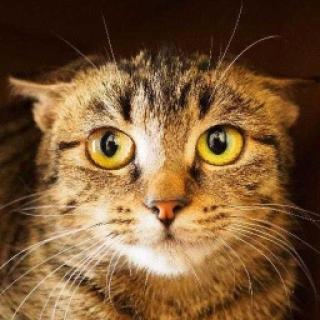cat: (20, 63, 310, 290)
nose: (133, 177, 195, 230)
